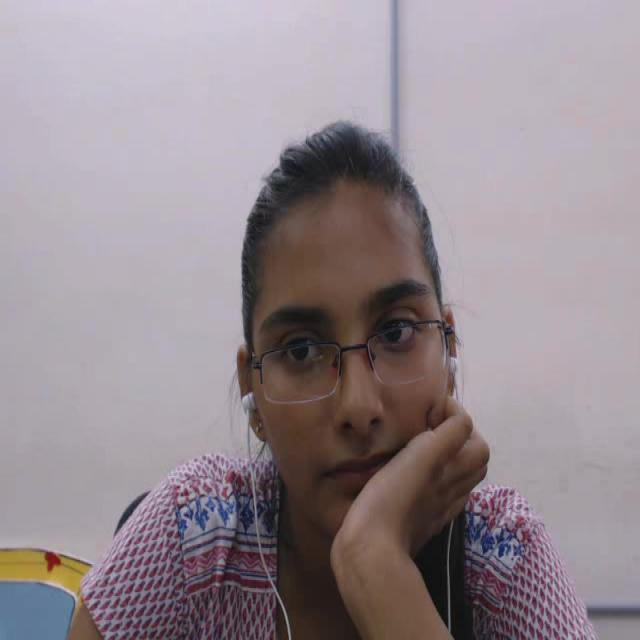Bored: (211, 100, 480, 554)
